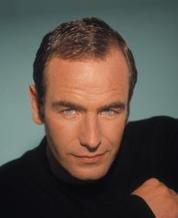face: (55, 100, 118, 163)
